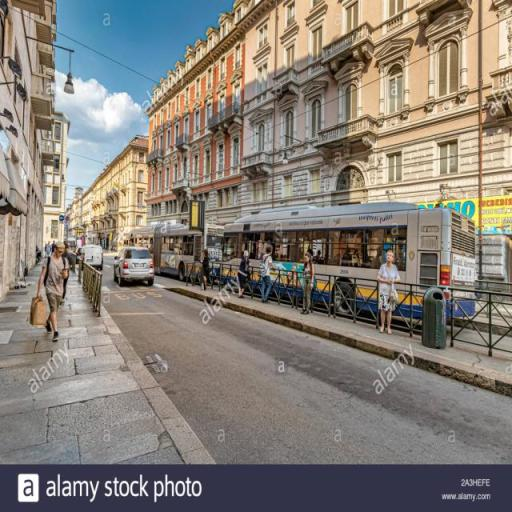person: (39, 244, 69, 343), (375, 251, 403, 337), (260, 248, 277, 305), (302, 253, 317, 315), (239, 249, 252, 300), (63, 244, 73, 306), (200, 249, 213, 292), (44, 240, 53, 261)
